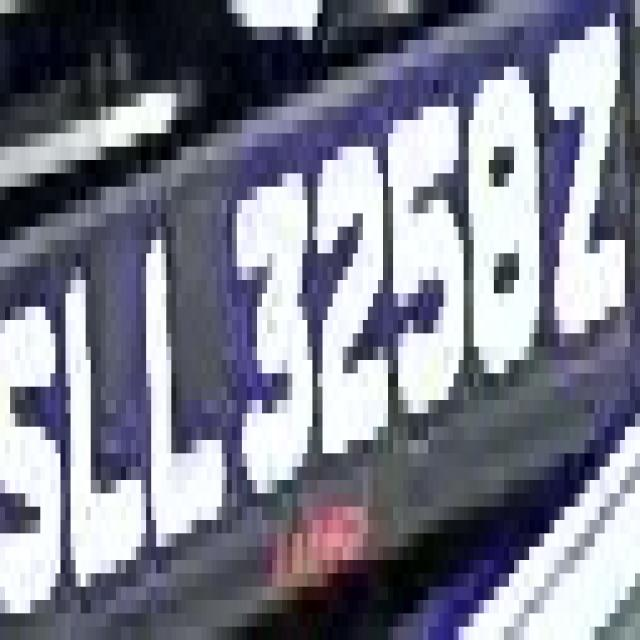2: (297, 134, 398, 454)
3: (222, 147, 317, 493)
5: (383, 107, 474, 440)
8: (454, 67, 544, 413)
L: (126, 186, 237, 546), (56, 213, 146, 627)
S: (0, 5, 1, 14)
Z: (529, 40, 625, 347)
